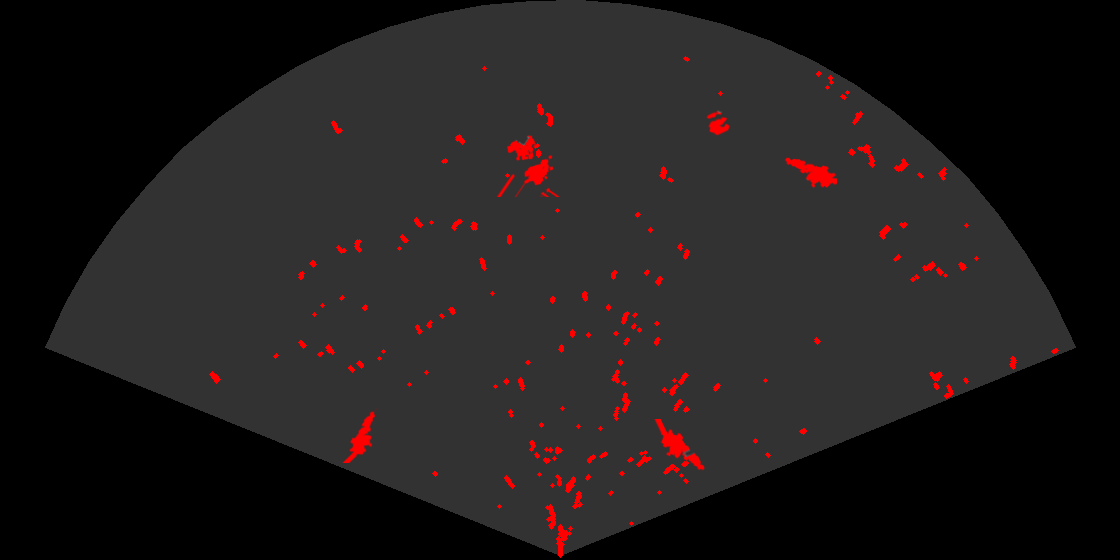ball: (705, 109, 731, 137)
cage: (495, 134, 561, 197)
frogman: (653, 419, 706, 472), (341, 408, 380, 463), (783, 156, 837, 190)
